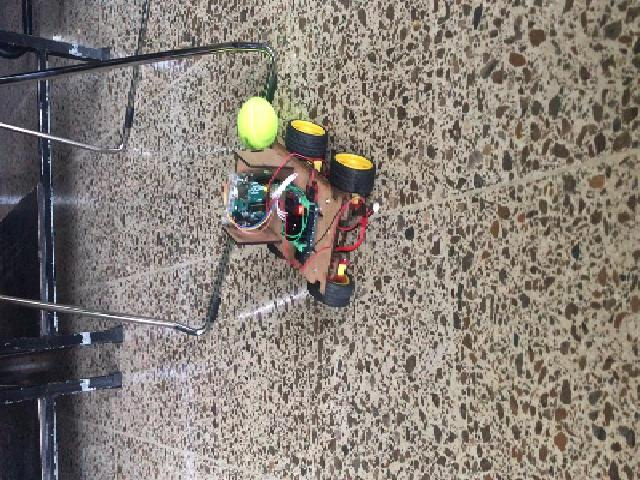Ball: (235, 96, 278, 148)
Robot: (221, 120, 374, 306)
